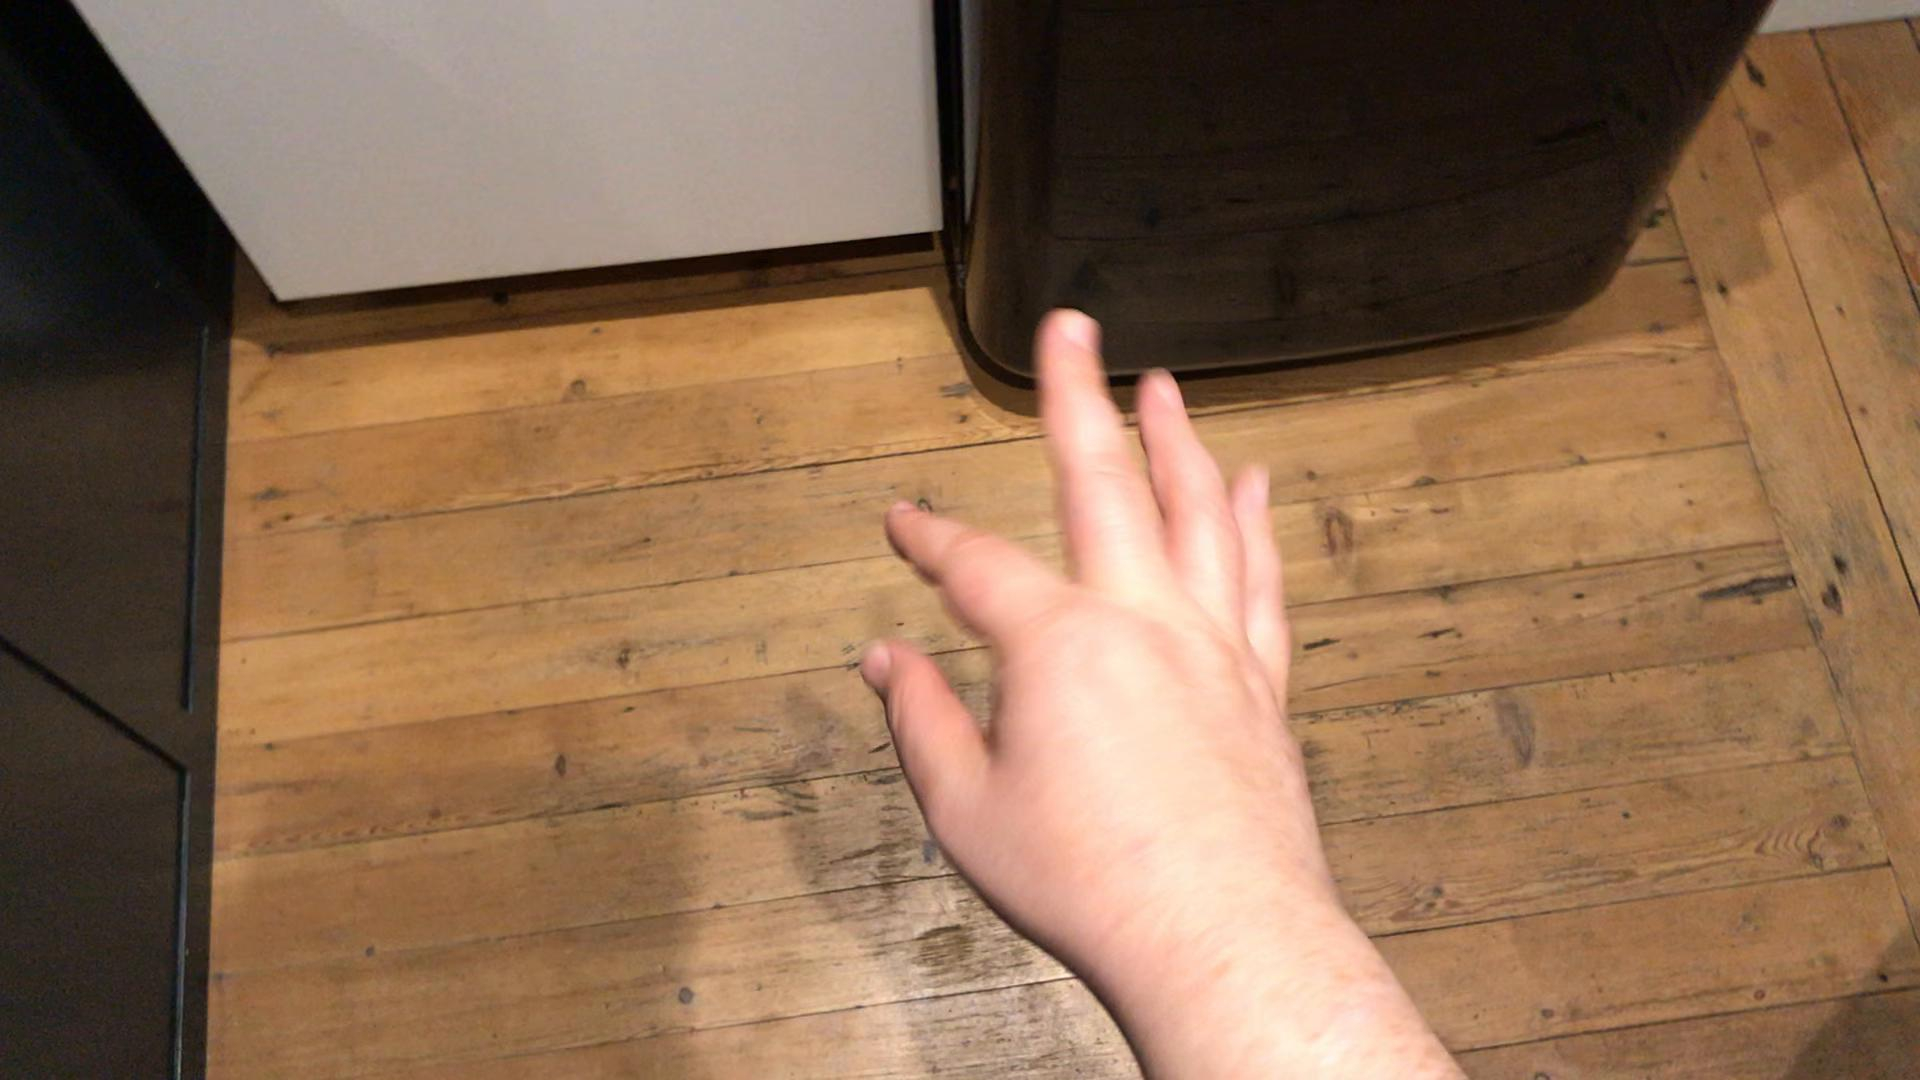hand: (856, 305, 1327, 951)
